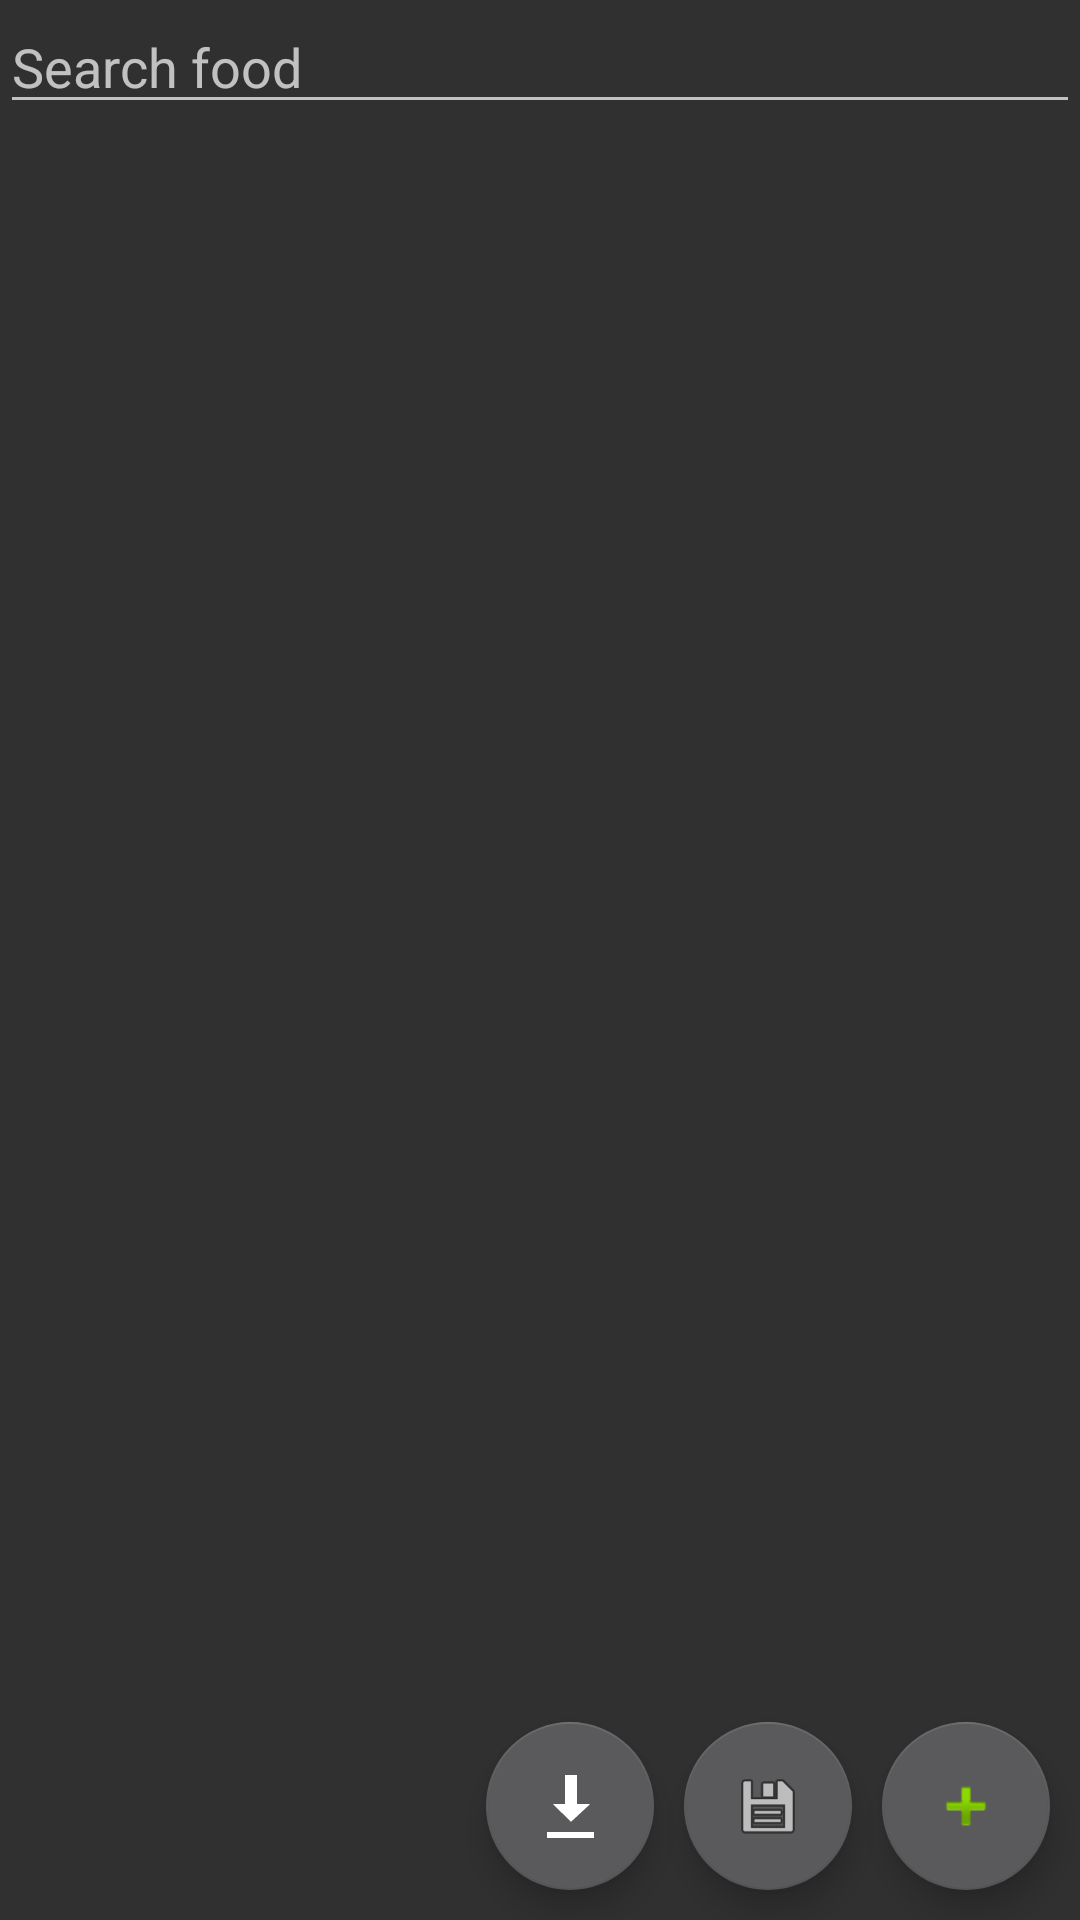

Icon bounding boxes for this 1080x1920 phone screenshot, format (x1, y1, x2, y2):
add: (882, 1722, 1050, 1890)
download: (486, 1722, 654, 1890)
save: (684, 1722, 852, 1890)
